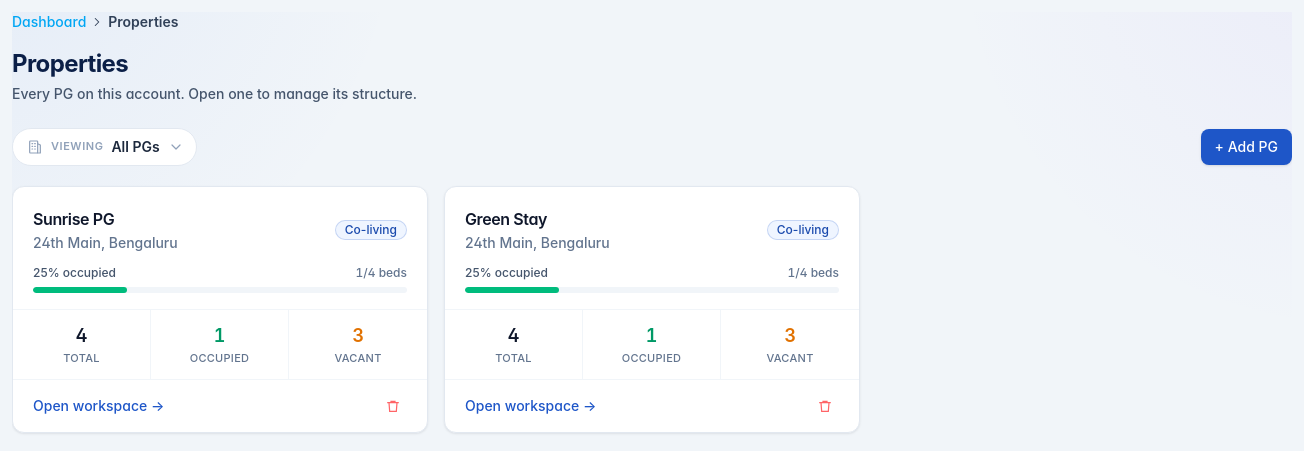
Test case: PropertiesPage — Viewing filter › filters the grid down to the selected property
Expected: the button "Sunrise PG" is shown, [33,207,114,231]
Step 1. Click the button "Viewing All PGs" → {"x": 104, "y": 147}, box [12,128,197,166]
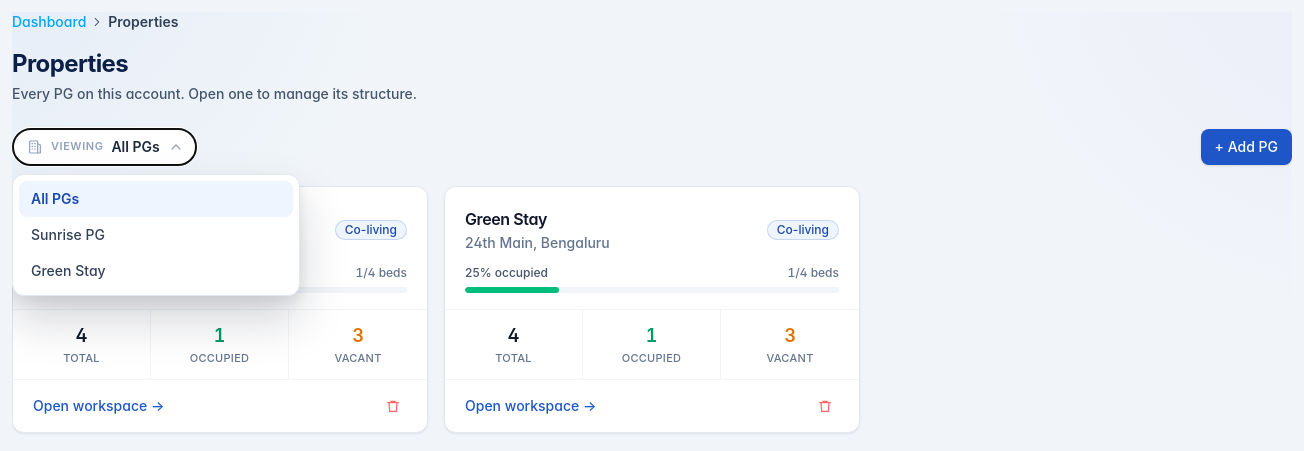
Step 2. Click the option "Sunrise PG" → {"x": 68, "y": 234}, box [19,217,293,253]
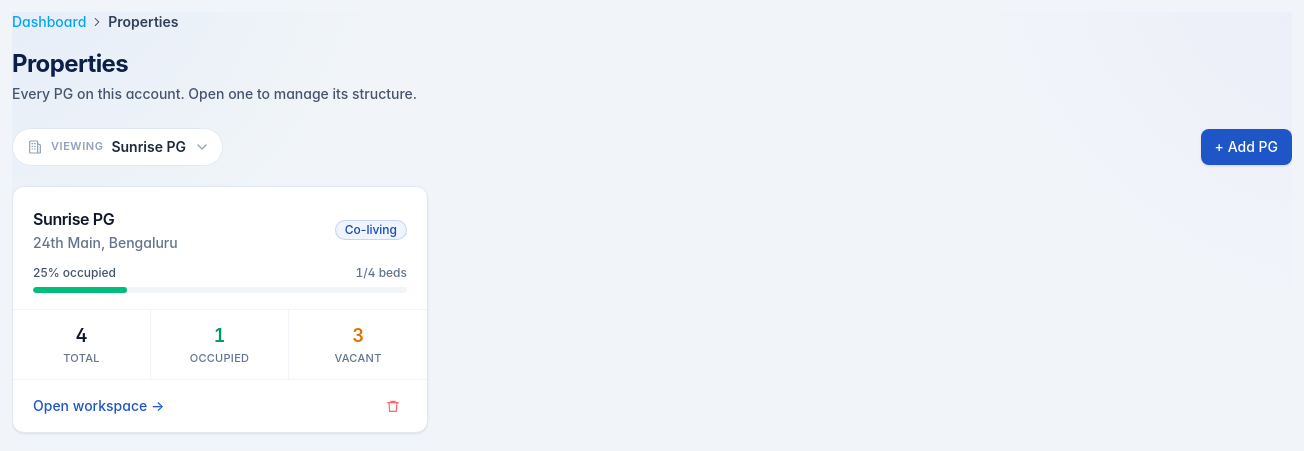
Expected: the button "Sunrise PG" is shown, [33,207,114,231]
Expected: the option "Green Stay" is gone
Expected: the button "Viewing Sunrise PG" is shown, [12,128,223,166]
